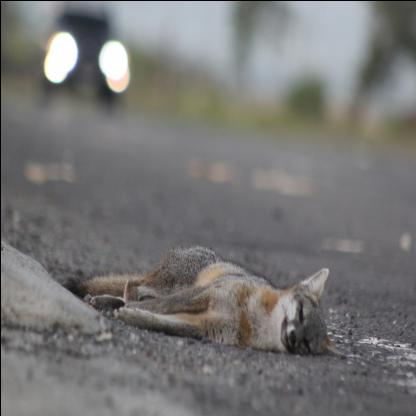zorro: (56, 240, 354, 365)
